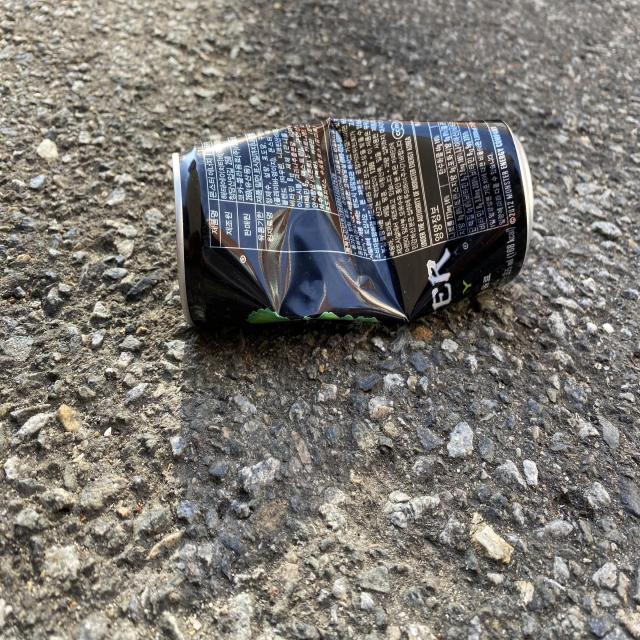can: (172, 118, 534, 324)
